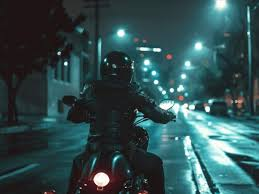motorcycle: (58, 95, 179, 194)
